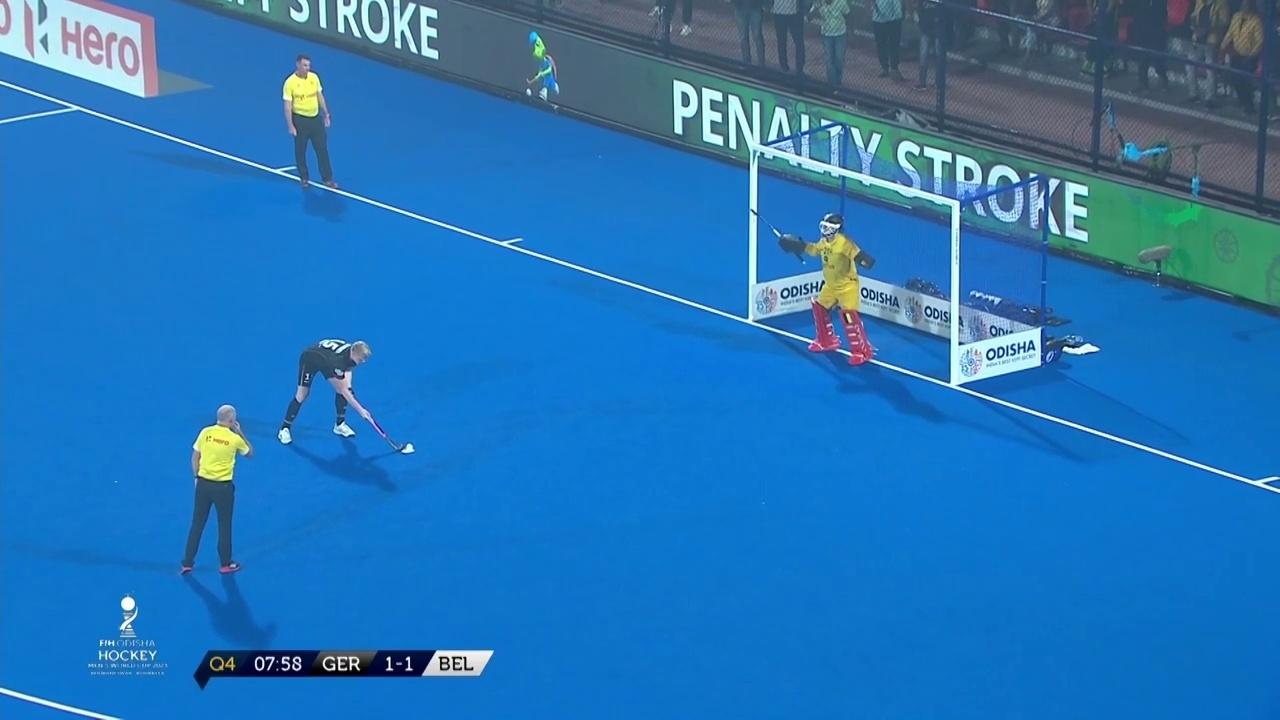ball: (394, 437, 421, 463)
